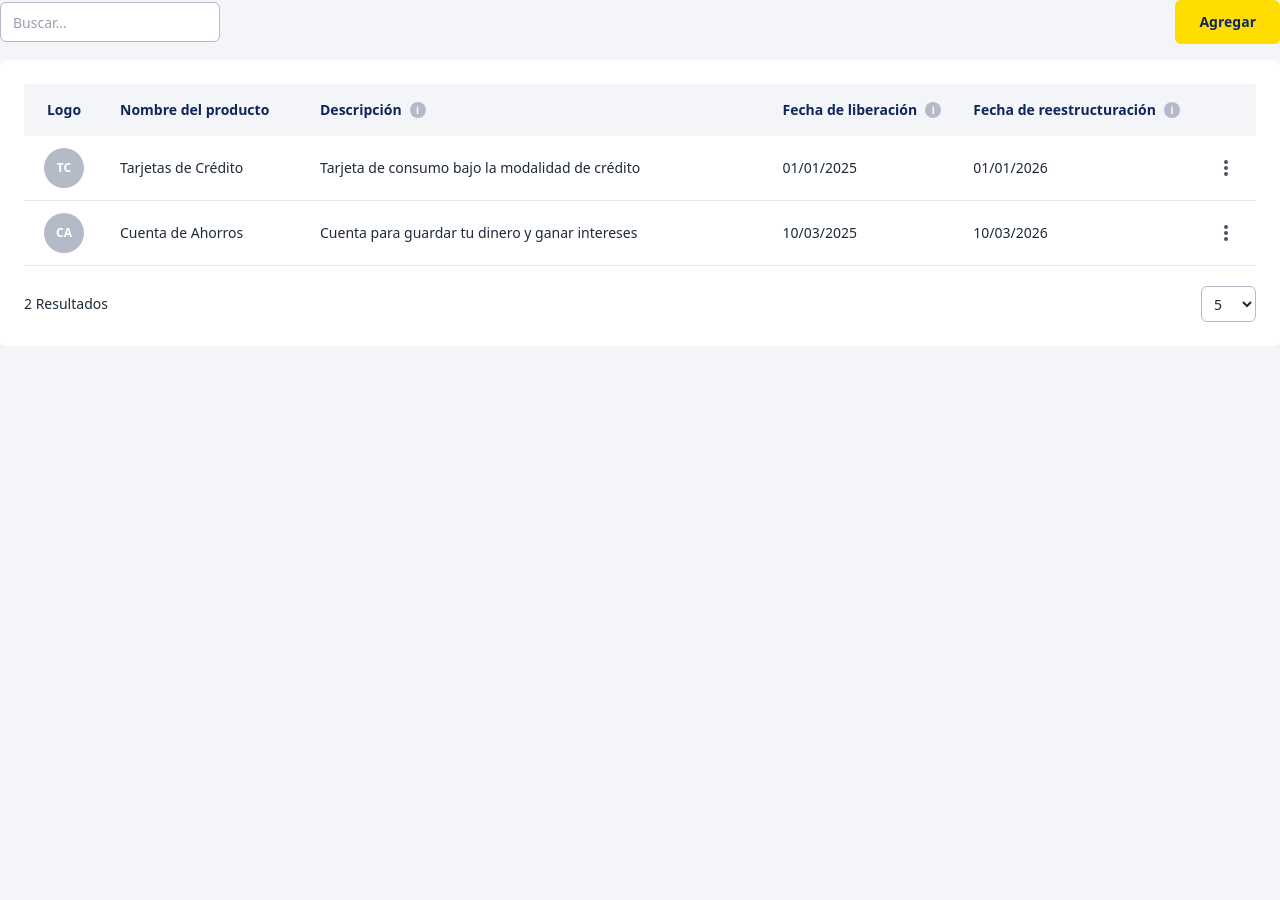
Test: ProductsComponent › menu de opciones › deberia mostrar el modal de confirmacion al escoger eliminar
Click the button named "Opciones de Tarjetas de Crédito": [1226, 168] box x1=1210 y1=152 x2=1242 y2=184
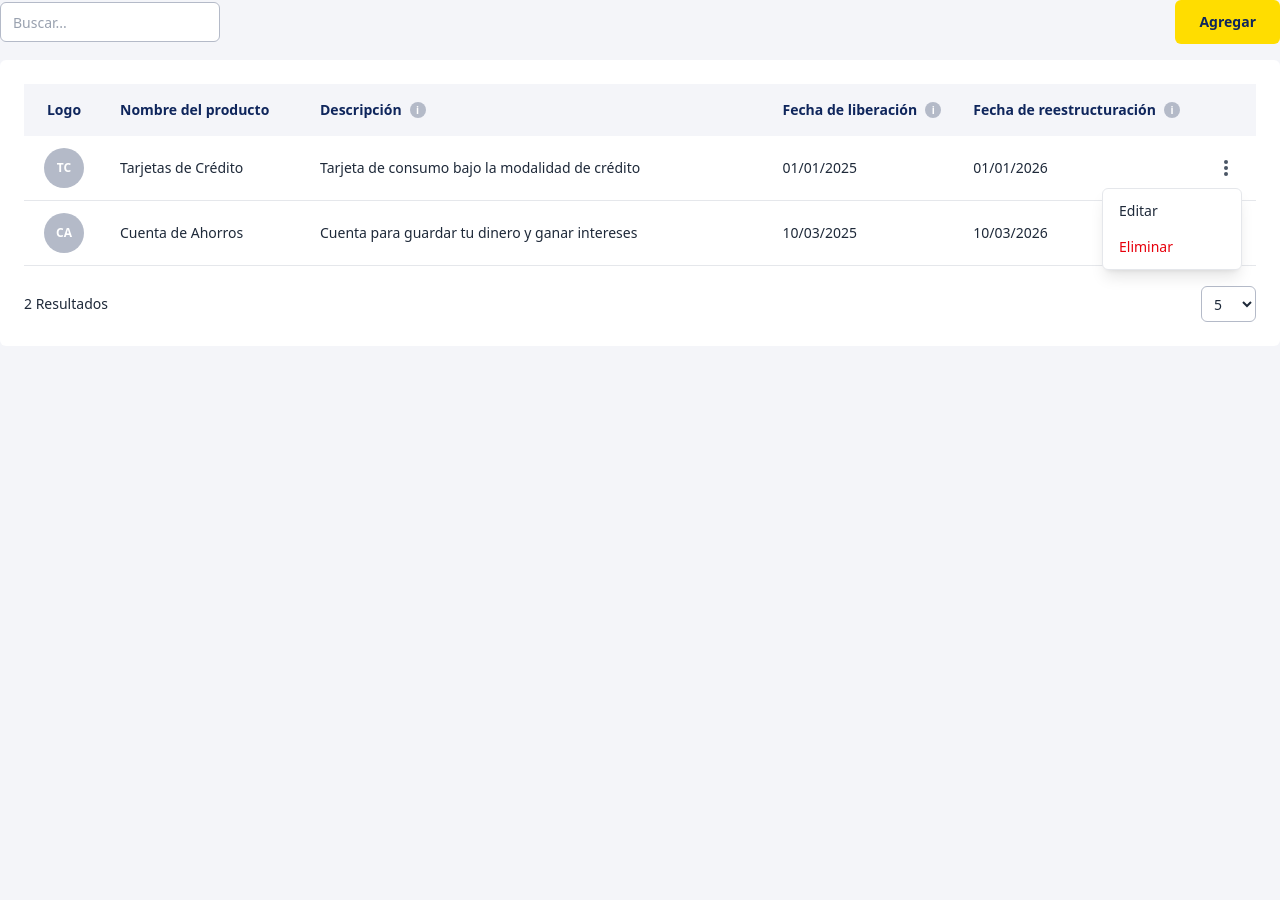
Click the menu item "Eliminar": [1172, 247] box x1=1103 y1=229 x2=1241 y2=265
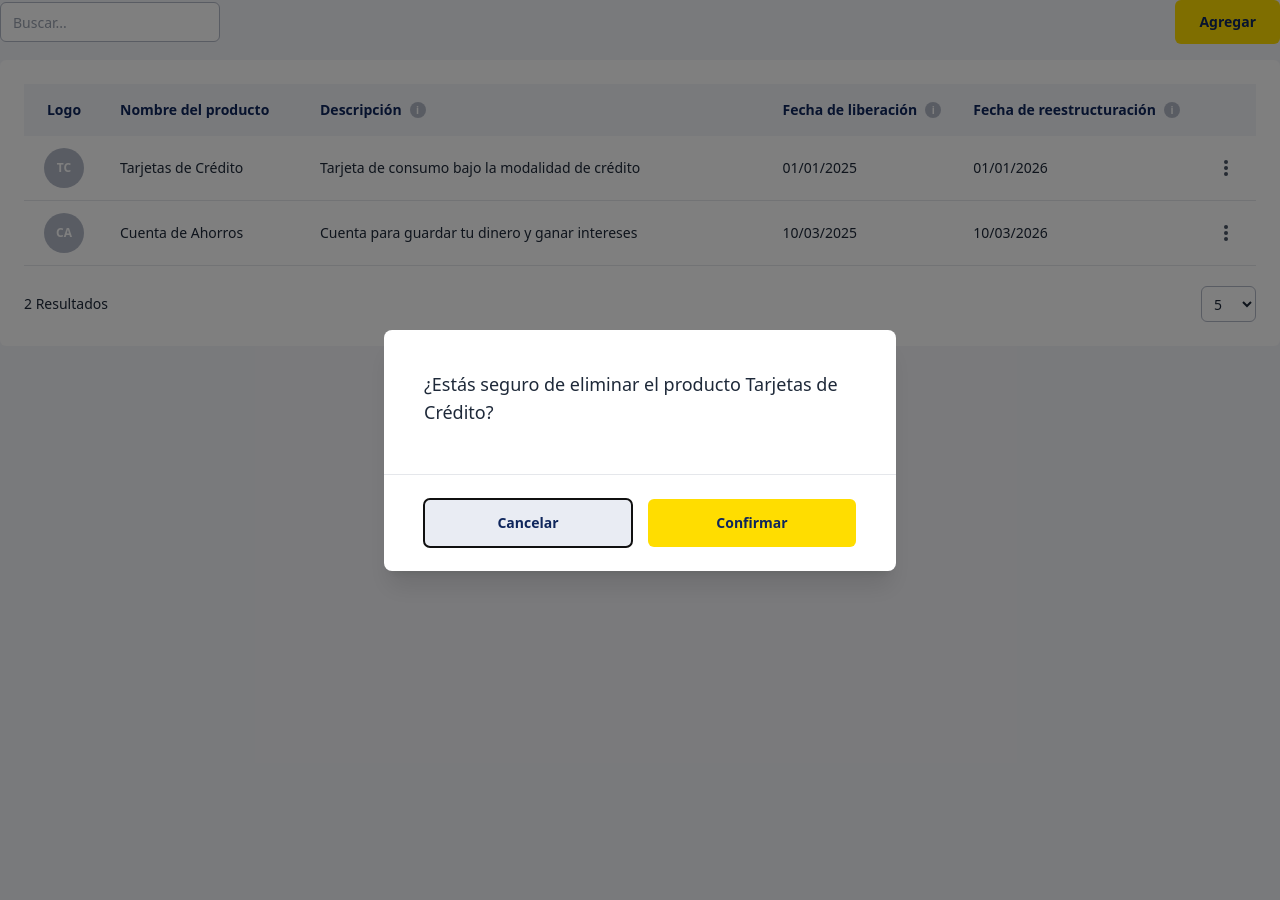
Expected: the dialog shows "¿Estás seguro de eliminar el producto Tarjetas de Crédito?", x1=424 y1=372 x2=838 y2=424
Expected: the button "Cancelar" is shown, x1=424 y1=498 x2=632 y2=546
Expected: the button "Confirmar" is shown, x1=648 y1=498 x2=856 y2=546
